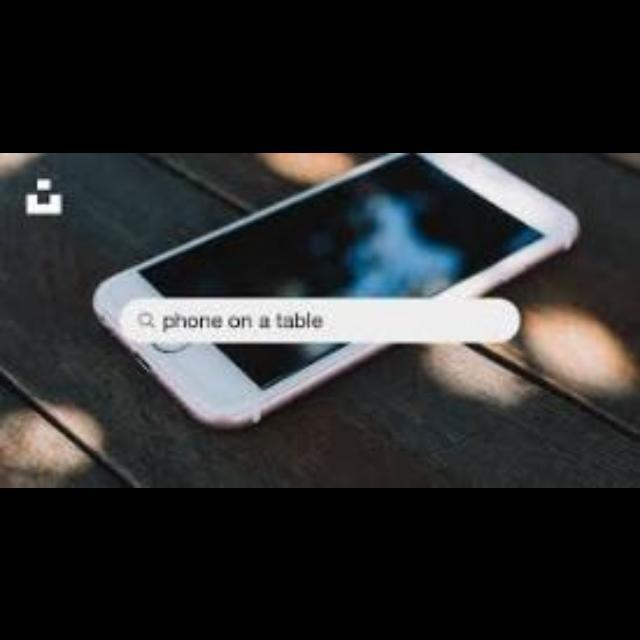PhoneUse: (86, 154, 602, 420)
